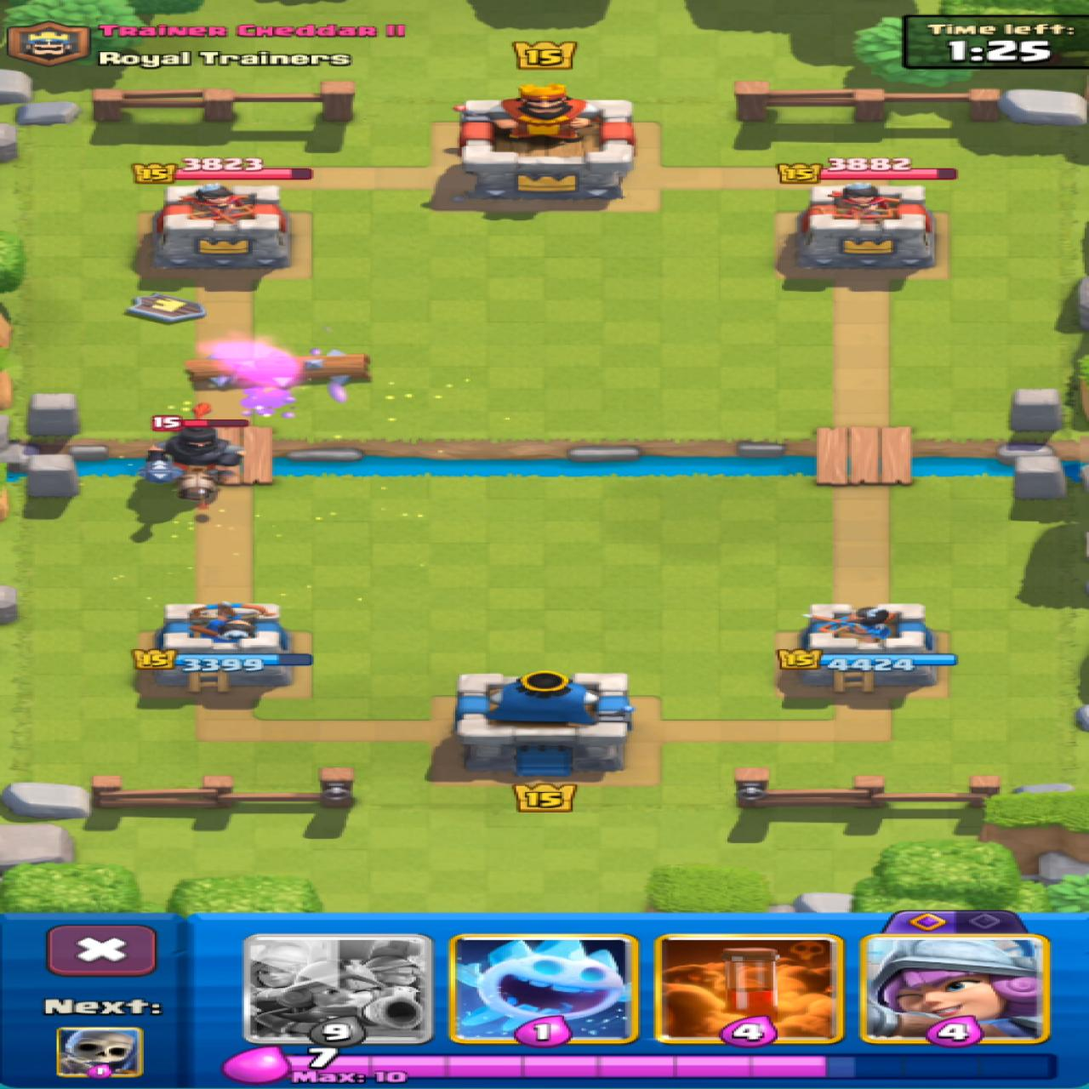Enemy-DarkPrince: (144, 426, 237, 507)
Enemy-KingTower: (457, 85, 634, 201)
Enemy-PrincessTower: (797, 182, 932, 268), (155, 185, 287, 270)
